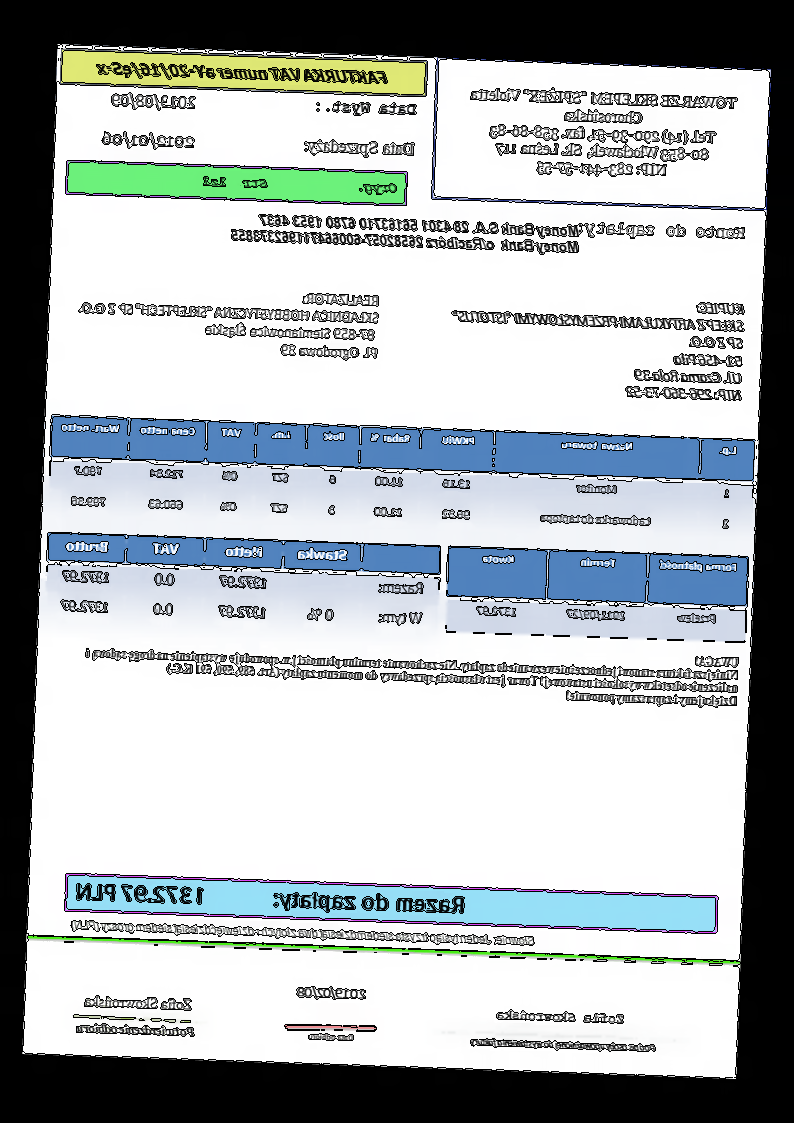Table: (45, 412, 757, 545), (43, 530, 443, 639), (443, 544, 750, 644)
TextBox: (79, 628, 743, 711), (446, 290, 748, 407), (463, 82, 744, 187), (74, 280, 385, 364), (74, 874, 470, 921), (69, 915, 539, 950), (228, 210, 584, 256), (90, 54, 391, 88), (198, 169, 401, 197), (577, 218, 750, 245), (466, 1034, 659, 1054), (493, 1006, 627, 1027), (313, 94, 421, 120), (303, 135, 420, 159), (78, 991, 195, 1013), (100, 127, 200, 152), (107, 87, 199, 114), (73, 1022, 199, 1039), (293, 982, 370, 1002), (305, 1028, 357, 1047)
